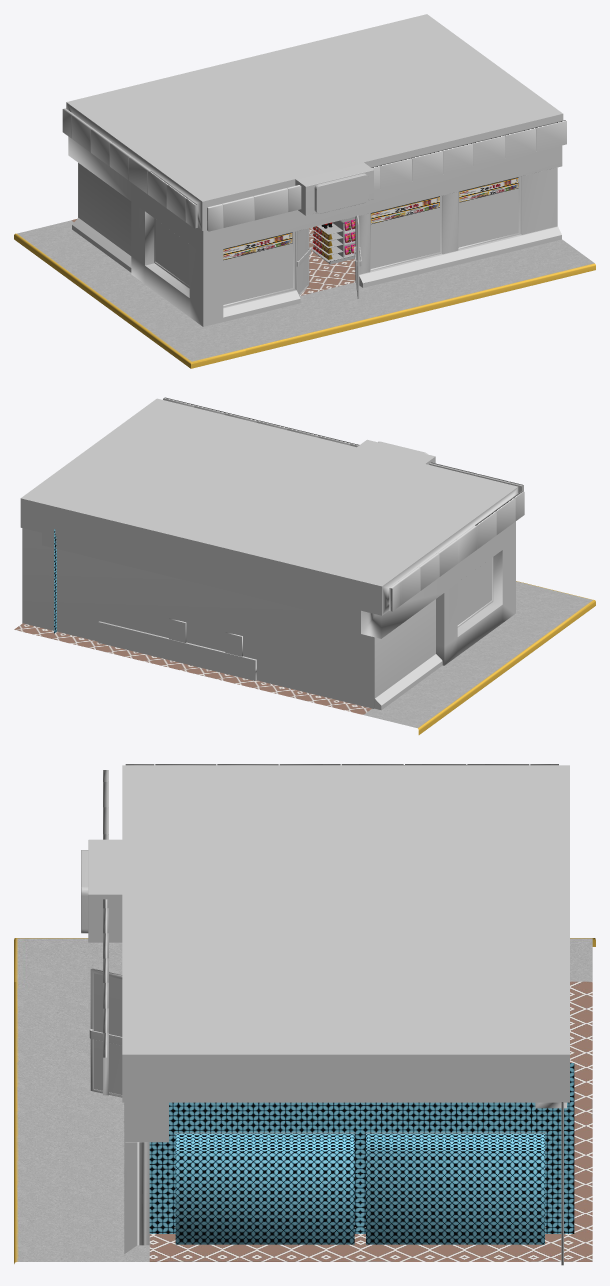
File: oxxo.glb
3 views of the same model, one above another, from view 1: azimuth 30°, elevation 25°; view 2: azimuth 150°, elevation 25°; view 3: azimuth 270°, elevation 25° (orthographic). The views are drawn at different scales.
Bounding box in the file's own units: 13.48 × 4.2 × 10.19.
Materials: 24 (21 with a texture image).
